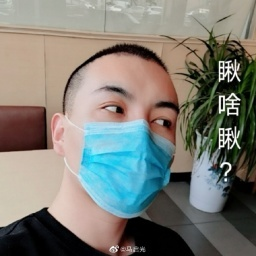correctlyWear: (51, 82, 180, 219)
